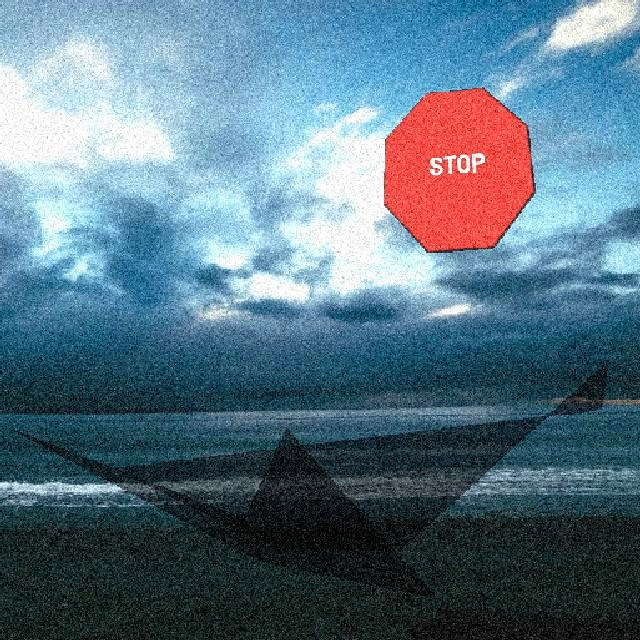STOP: (382, 86, 534, 252)
